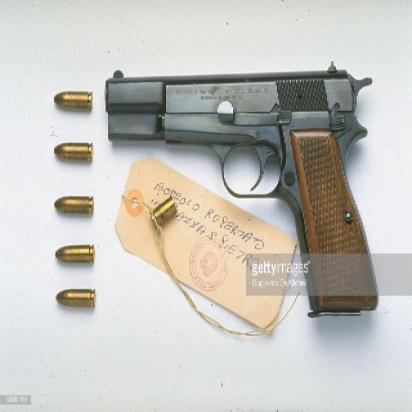Gun: (102, 67, 381, 322)
